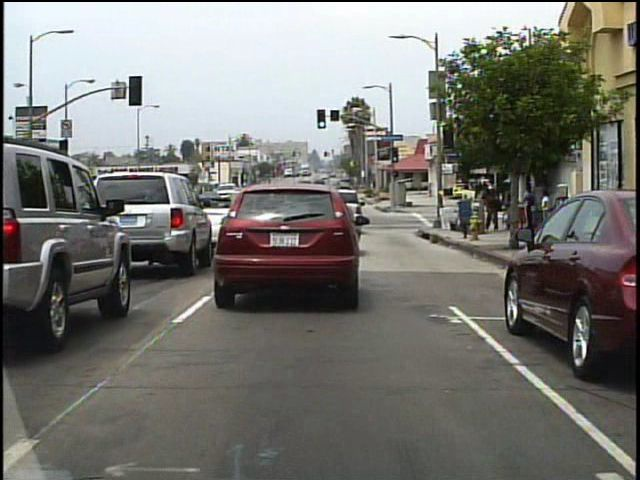person: (484, 183, 502, 236), (524, 184, 539, 232), (539, 188, 553, 228), (506, 187, 518, 225)
